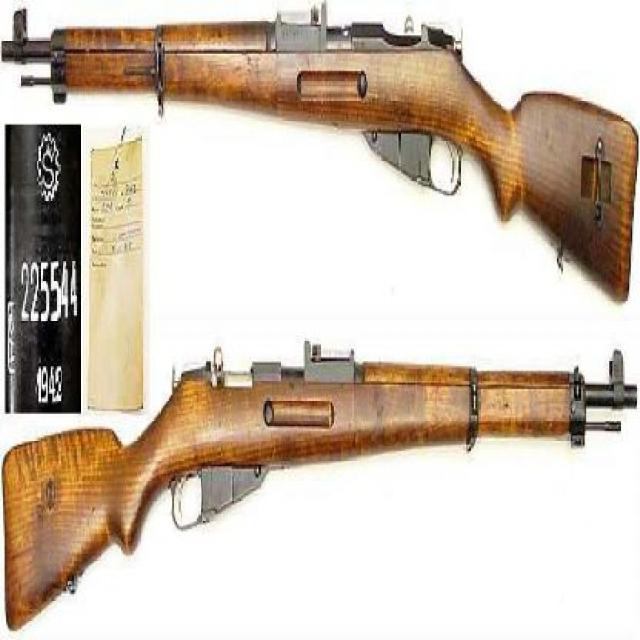heavy-weapon: (3, 8, 635, 302), (31, 354, 640, 555)
